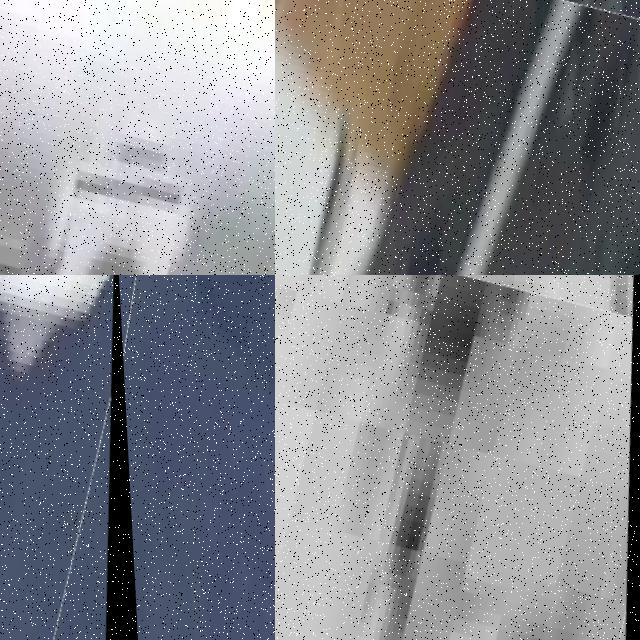drone: (275, 275, 640, 640), (275, 0, 640, 275), (0, 0, 275, 275), (0, 275, 146, 640)
